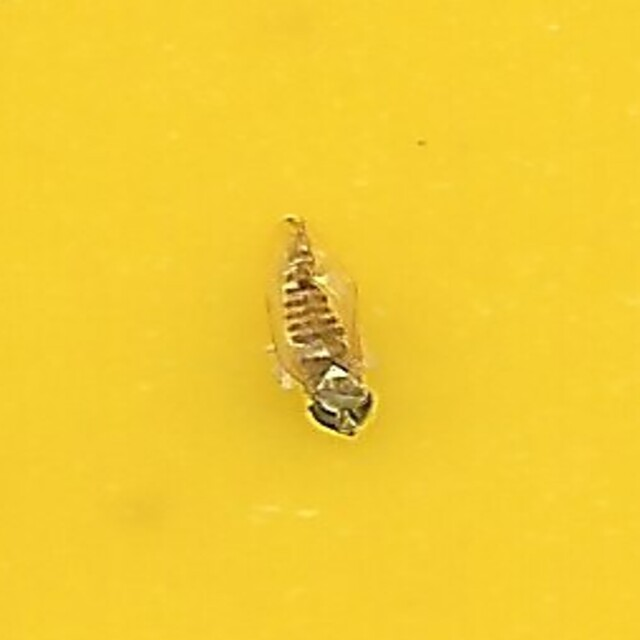Hemiptera: (252, 196, 388, 444)
